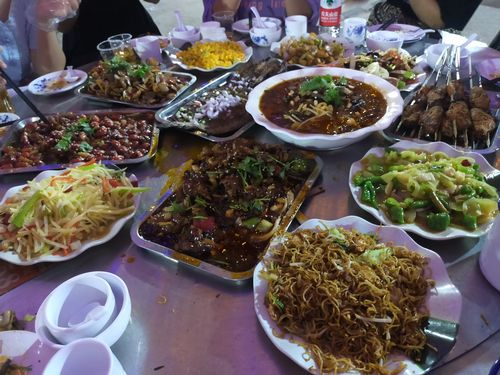food: (240, 217, 464, 354), (156, 115, 291, 292), (354, 134, 496, 251), (0, 170, 146, 276), (4, 99, 166, 178), (254, 63, 390, 153), (398, 66, 499, 145), (69, 56, 180, 98)
